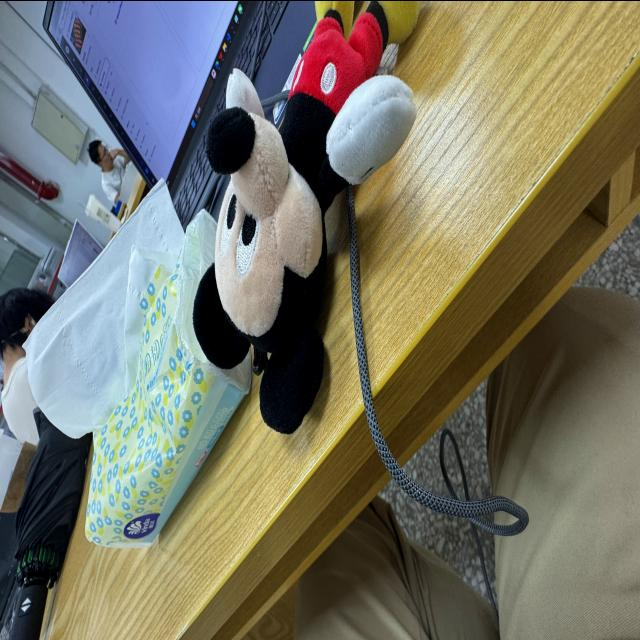mickey: (194, 1, 419, 432)
